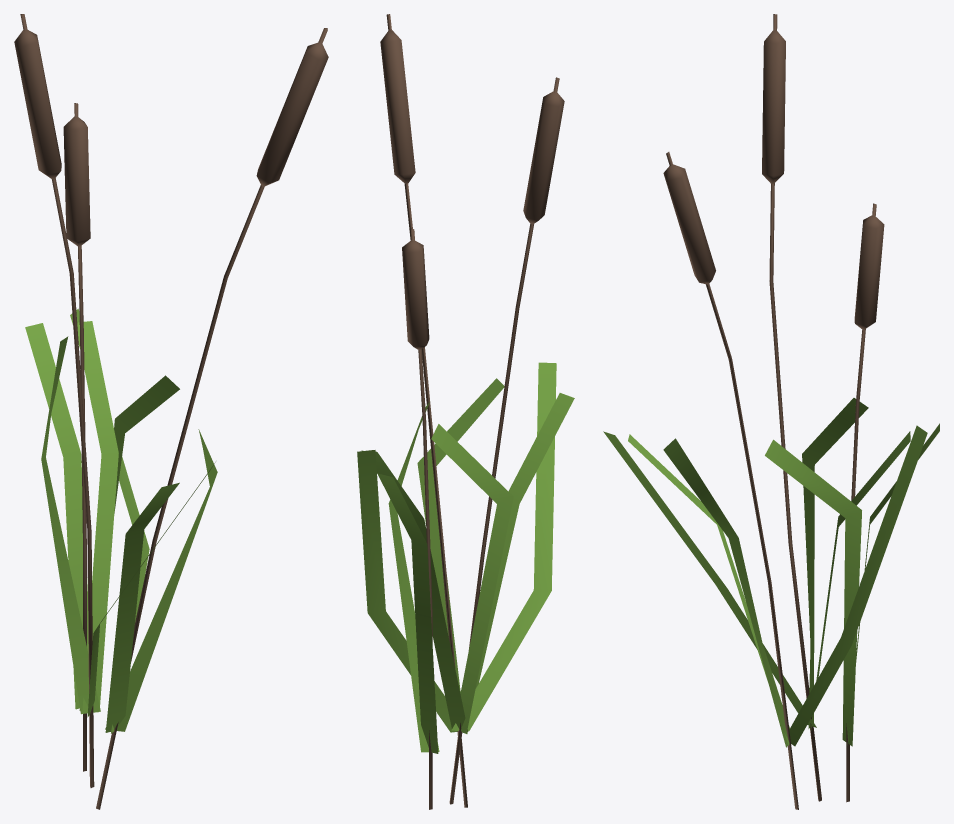
Rendered from Reed_8.fbx.
3 views of the same model, side by side, from view 1: azimuth 30°, elevation 25°; view 2: azimuth 150°, elevation 25°; view 3: azimuth 270°, elevation 25° (orthographic). The views are drawn at different scales.
Parts seen in each view (by area): view 1: Reed 8; view 2: Reed 8; view 3: Reed 8.
Part boxes in pixels (x1=…): Reed 8: x1=14, y1=14, x2=328, y2=809; Reed 8: x1=357, y1=14, x2=574, y2=809; Reed 8: x1=603, y1=14, x2=939, y2=809.
Size of the model in its own units: 89.8 by 280 by 113.
